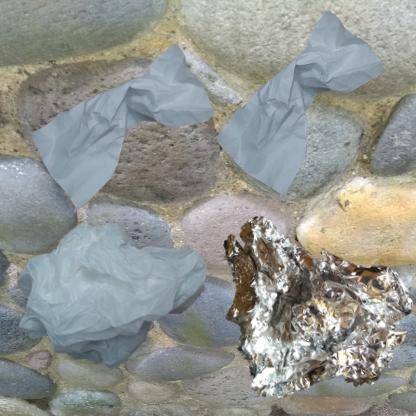aluminio: (213, 213, 416, 409)
bolsa: (10, 213, 219, 380)
papel: (10, 10, 244, 259), (213, 10, 385, 203)
